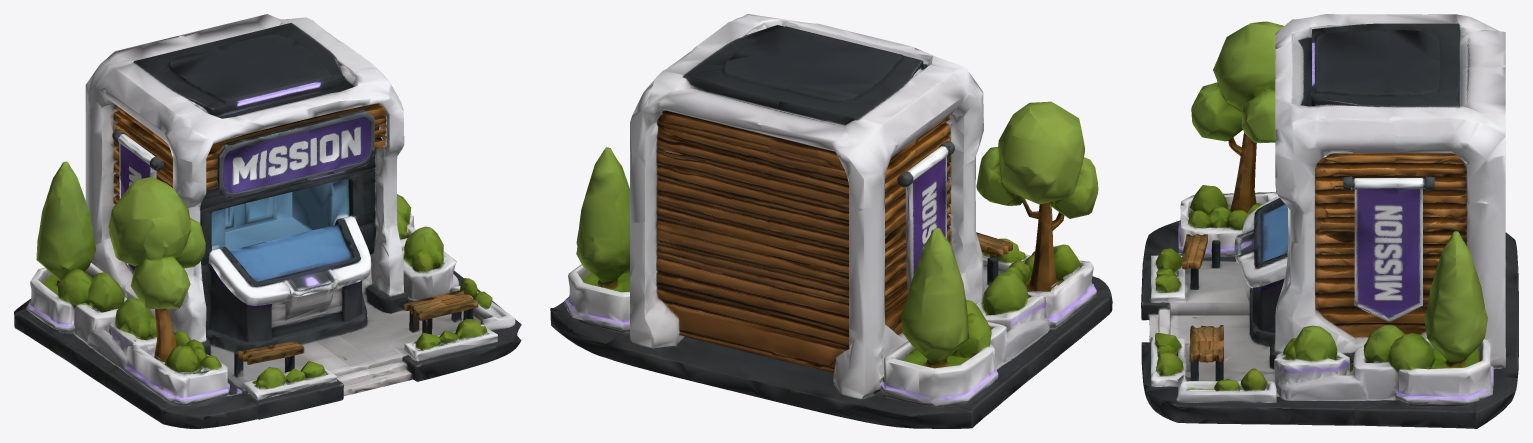
File: progress-vault.glb
The picture shows the model from 3 angles, left to right: view 1: azimuth 30°, elevation 25°; view 2: azimuth 150°, elevation 25°; view 3: azimuth 270°, elevation 25°; orthographic projection. The views are drawn at different scales.
Size of the model in its own units: 1.9 by 1.19 by 1.52.
1 material, 1 textured.
